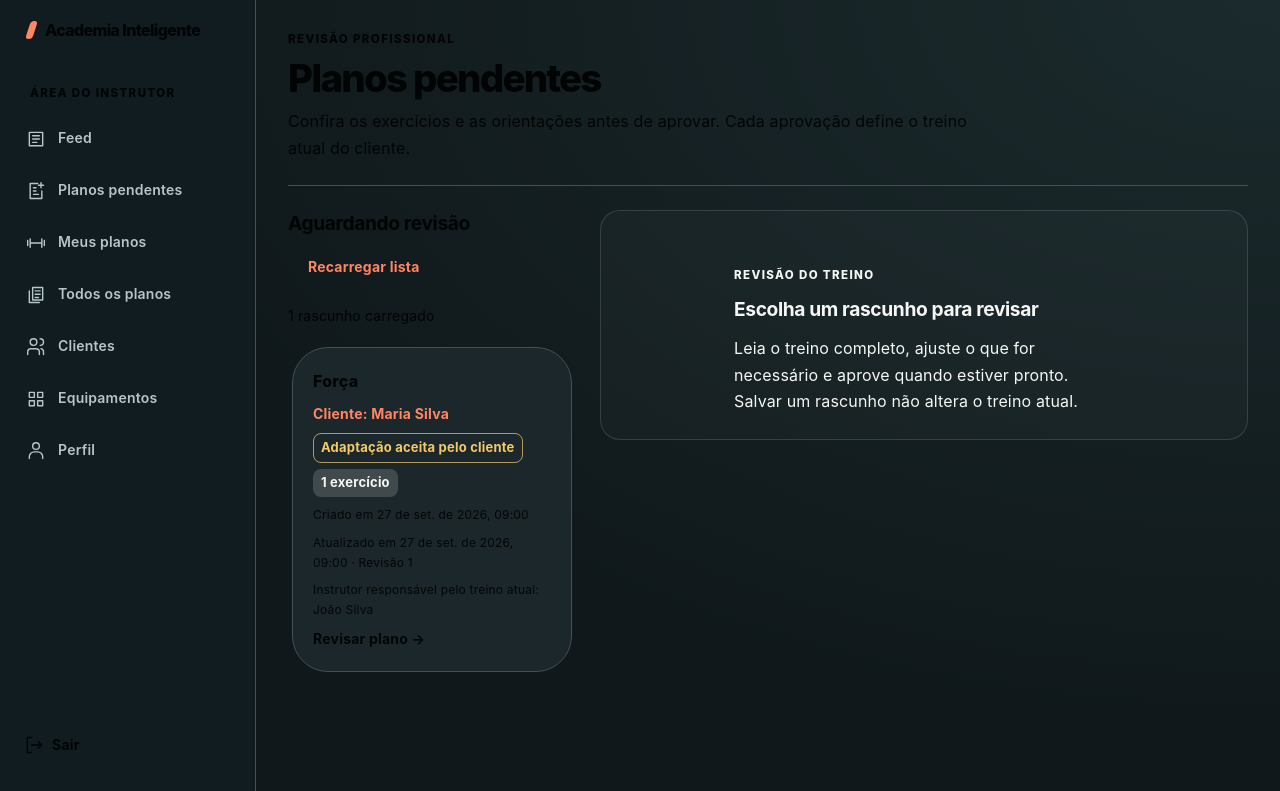
lists minimized pending metadata and approves directly with the viewed revision
Expected: the text "Cliente: Maria Silva" is shown, [313,405,449,422]
Expected: the text "Adaptação aceita pelo cliente" is shown, [321,439,514,455]
Click the button with aria-label "Revisar plano de Maria Silva" at (432, 510), box [292,348,572,672]
(page scrolled)
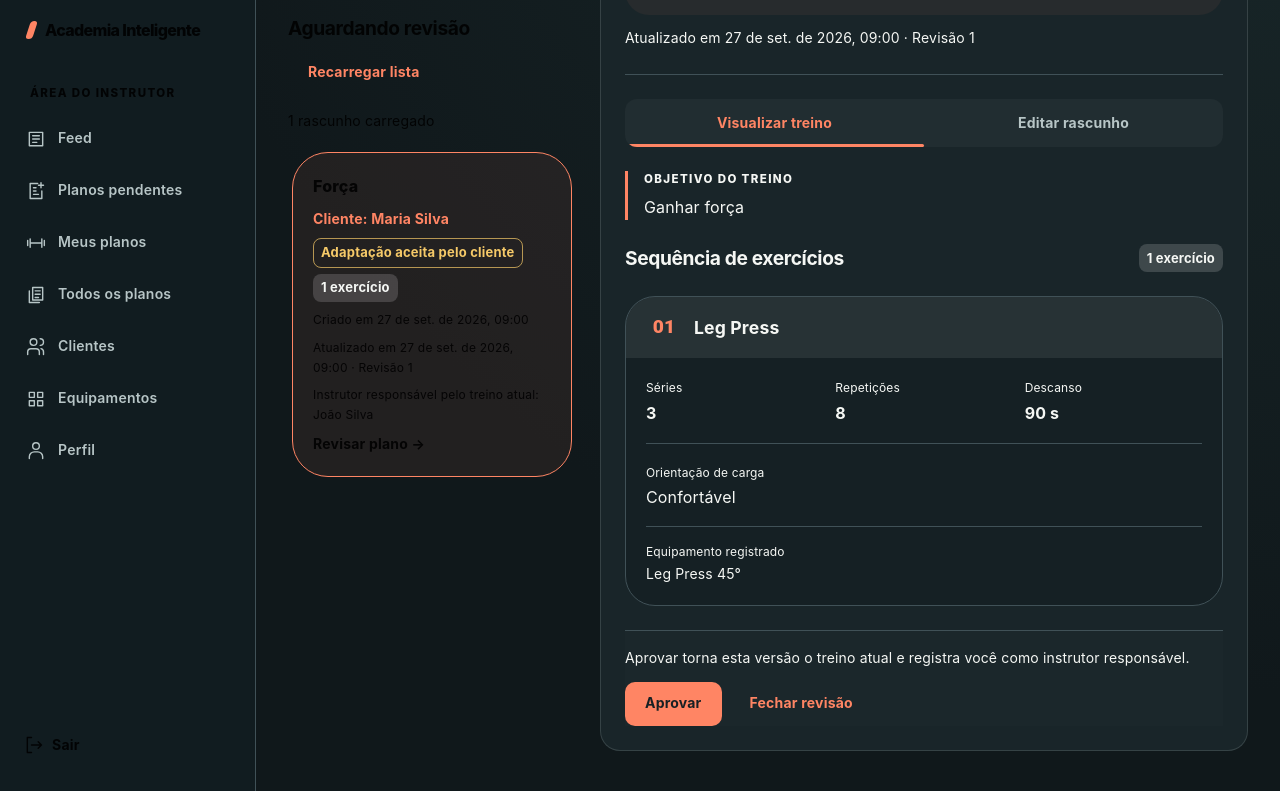
Click the button "Aprovar" at (673, 704), box [625,682,722,726]
(page scrolled)
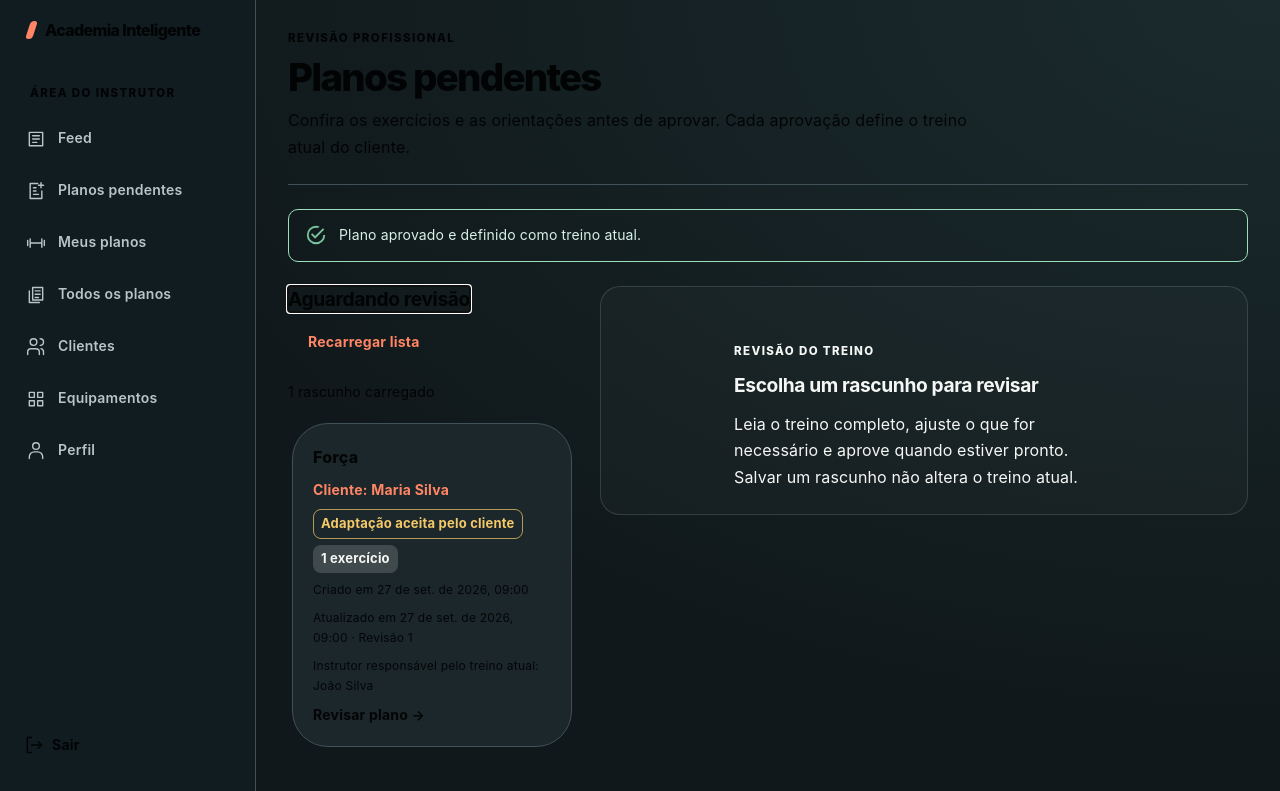
Expected: the text "Plano aprovado e definido como treino atual." is shown, [339,226,641,243]
